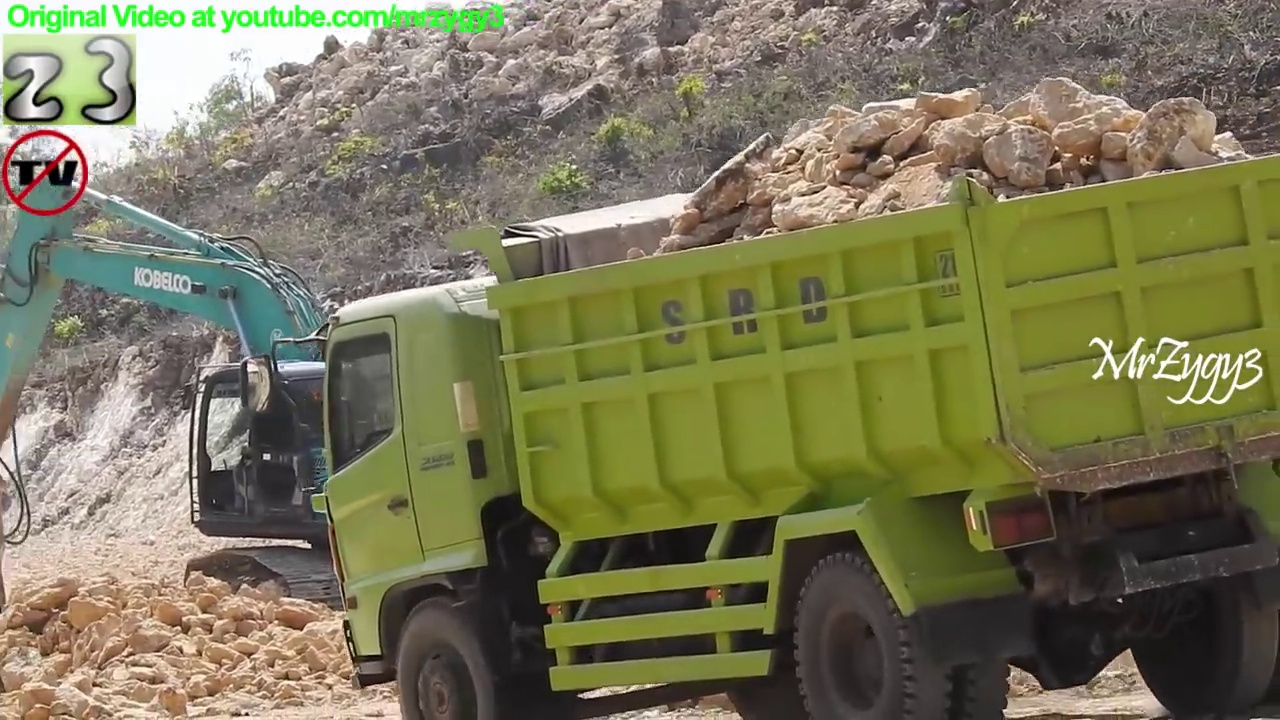excavator: (1, 153, 641, 640)
truck: (234, 128, 1280, 720)
